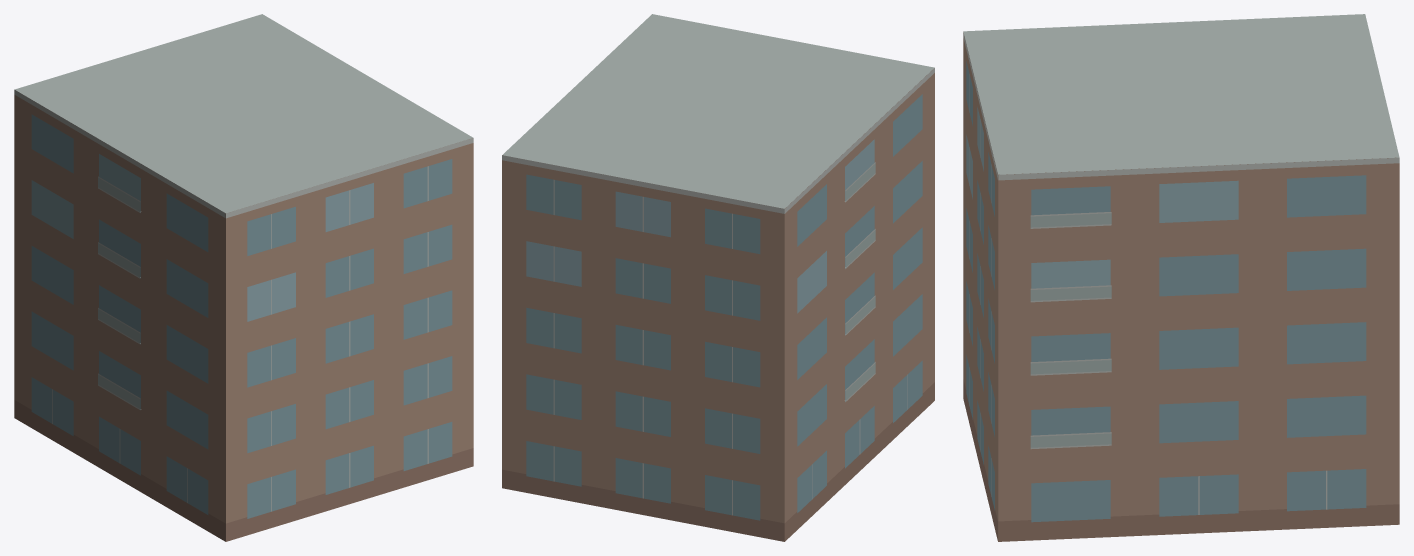
The model's file is survey-upis-32636801.glb.
3 views of the same model, side by side, from view 1: azimuth 30°, elevation 25°; view 2: azimuth 150°, elevation 25°; view 3: azimuth 270°, elevation 25° (orthographic). The views are drawn at different scales.
Parts seen in each view (by area): view 1: survey-upis-32636801.tmp; view 2: survey-upis-32636801.tmp; view 3: survey-upis-32636801.tmp.
Boxes of the visible parts, x1,y1,x2,y2 form: survey-upis-32636801.tmp: [14, 14, 473, 541]; survey-upis-32636801.tmp: [502, 14, 934, 541]; survey-upis-32636801.tmp: [963, 14, 1399, 541].
Size of the model in its own units: 14.92 by 15.87 by 17.1.
